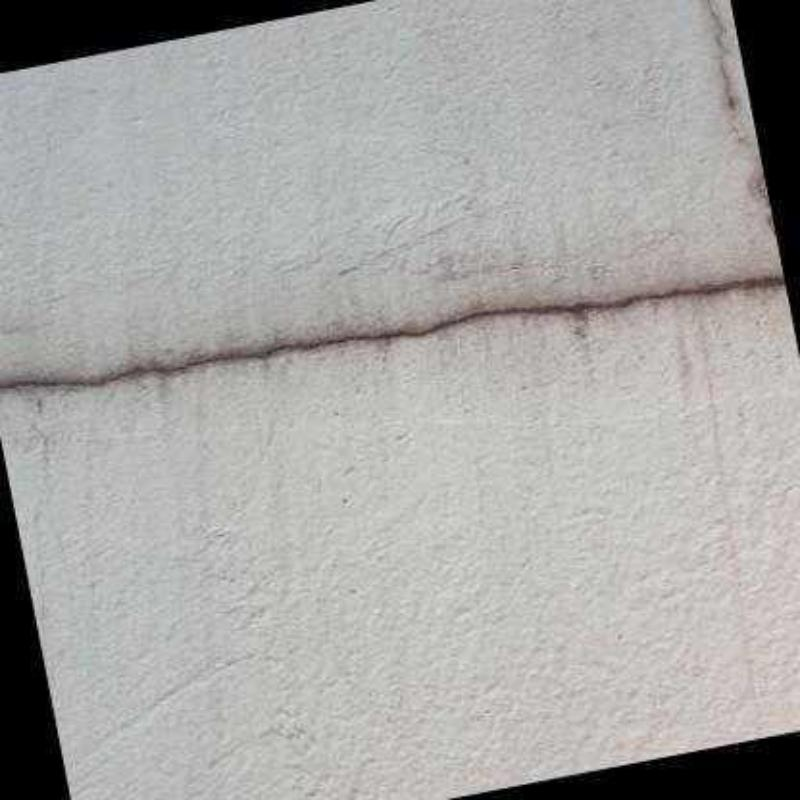pothole: (0, 274, 782, 389), (700, 0, 770, 208)
